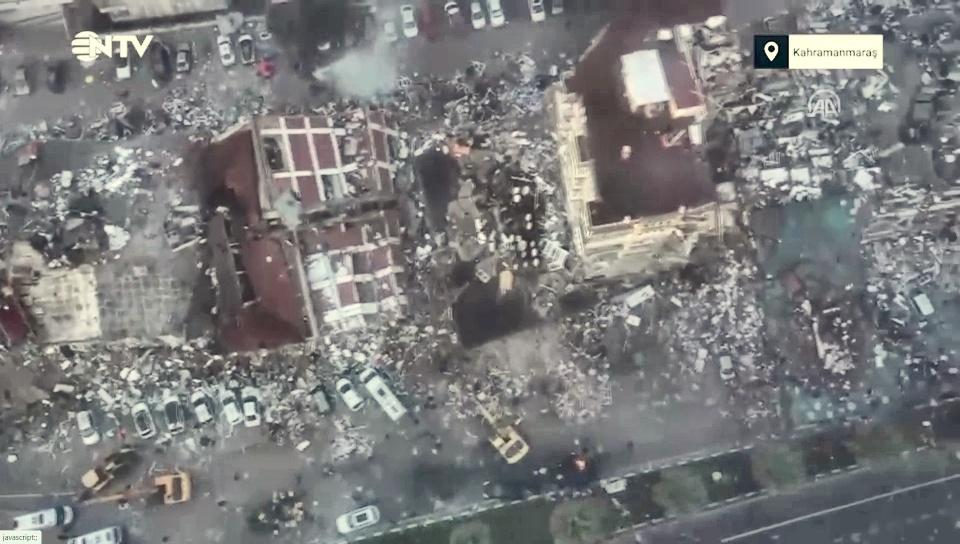kapali: (628, 225, 959, 461)
